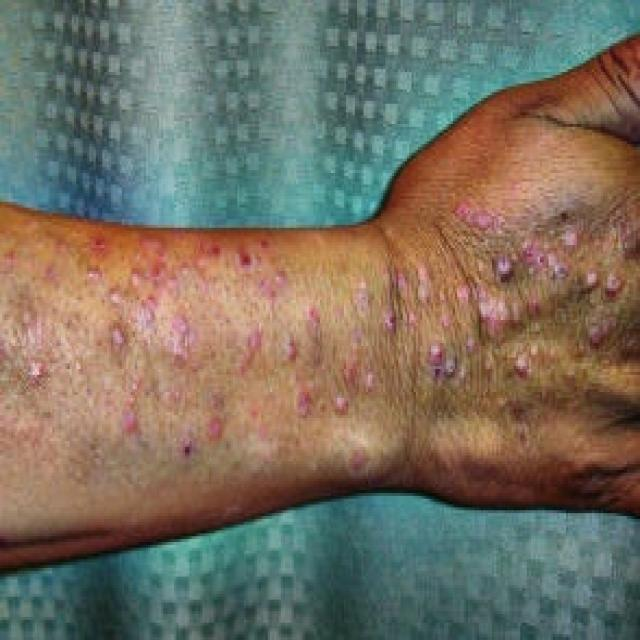Psoriasis-pictures-Lichen-Planus: (19, 234, 640, 485)
